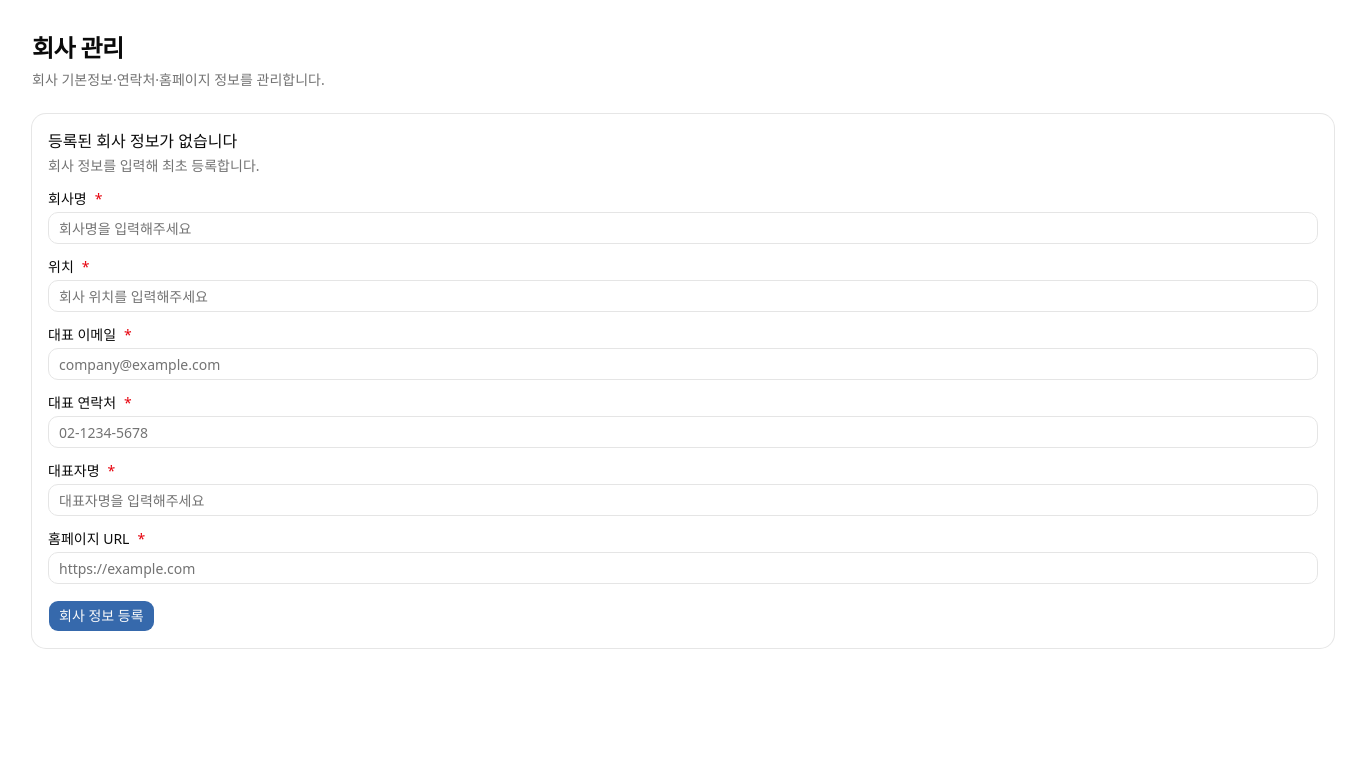
Test: CompanyInfoPage - 최초 등록 폼(CompanyRegisterCard, F1402) › 필수값 미입력 시 zod 클라 사전검증 메시지를 노출하고 요청을 보내지 않는다
Click the button "회사 정보 등록". click: (101, 616)
box: [48,600,155,632]
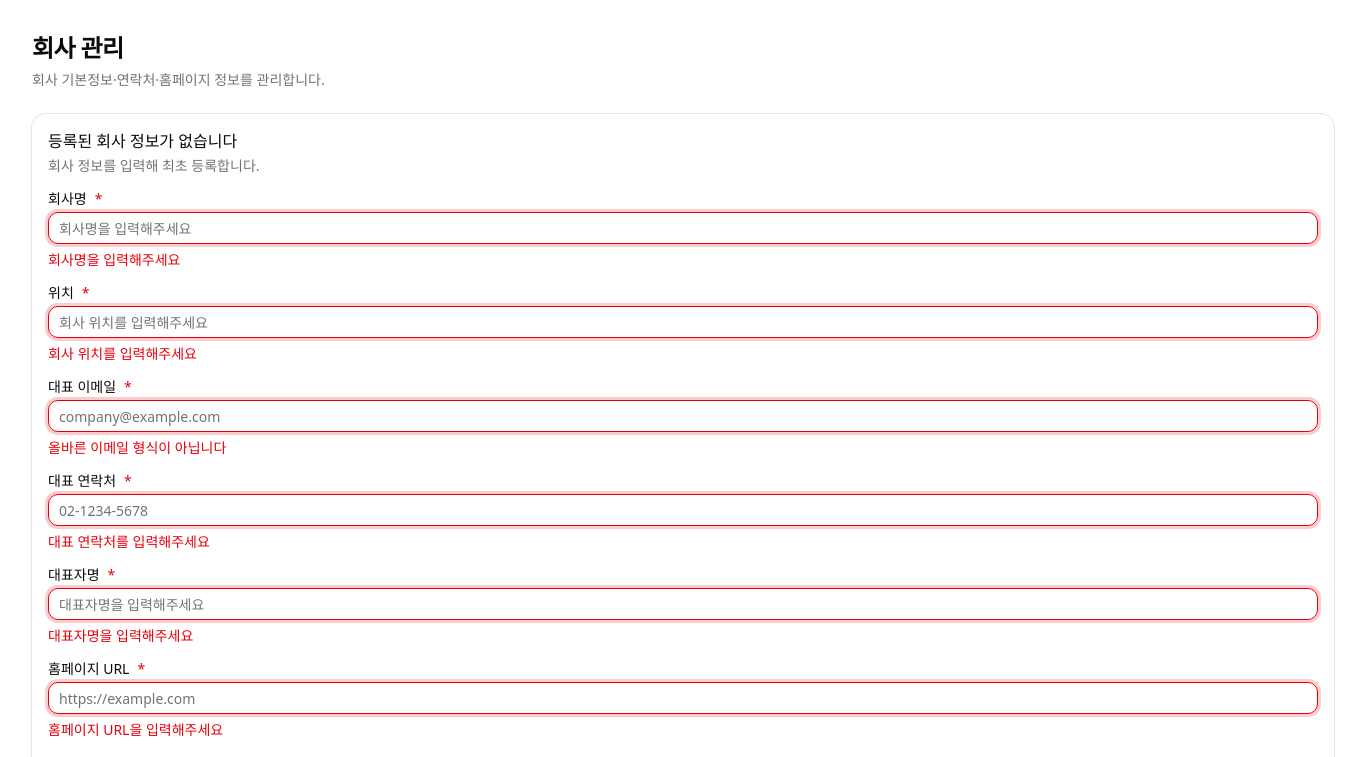
Now the text "회사명을 입력해주세요" is shown, box [48,250,180,269]
Now the text "회사 위치를 입력해주세요" is shown, box [48,344,197,363]
Now the text "대표 연락처를 입력해주세요" is shown, box [48,532,210,551]
